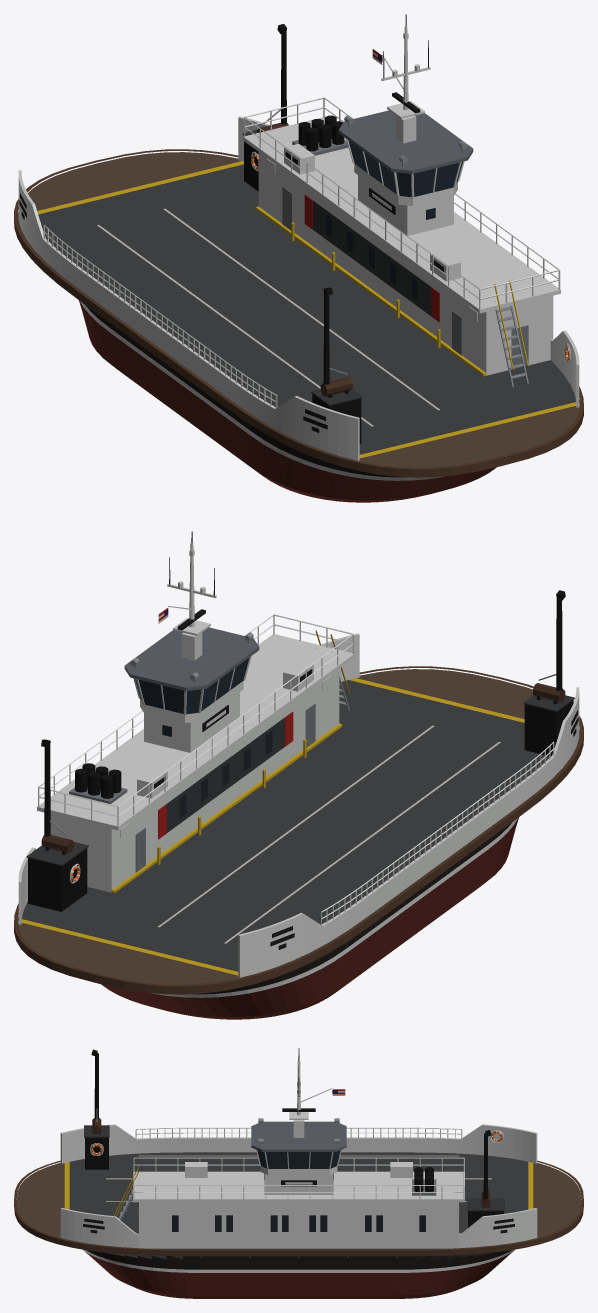
File: guemes_mid.glb
The picture shows the model from 3 angles, top to bottom: view 1: azimuth 30°, elevation 25°; view 2: azimuth 150°, elevation 25°; view 3: azimuth 270°, elevation 25°; orthographic projection. The views are drawn at different scales.
Visible parts, largest first — view 1: fixed, thinshadow, glass, window; view 2: fixed, thinshadow, glass, window; view 3: fixed, thinshadow, glass, window.
Boxes of the visible parts, x1,y1,x2,y2 form: fixed: (14,24,583,502); thinshadow: (43,14,570,408); glass: (348,140,462,197); window: (325,208,435,300); fixed: (14,543,583,1019); thinshadow: (38,531,556,925); glass: (135,657,249,714); window: (162,725,272,817); fixed: (14,1049,583,1298); thinshadow: (90,1048,503,1216); glass: (257,1150,340,1168); window: (172,1174,425,1231).
Size of the model in its own units: 15.88 by 18.35 by 37.8.
